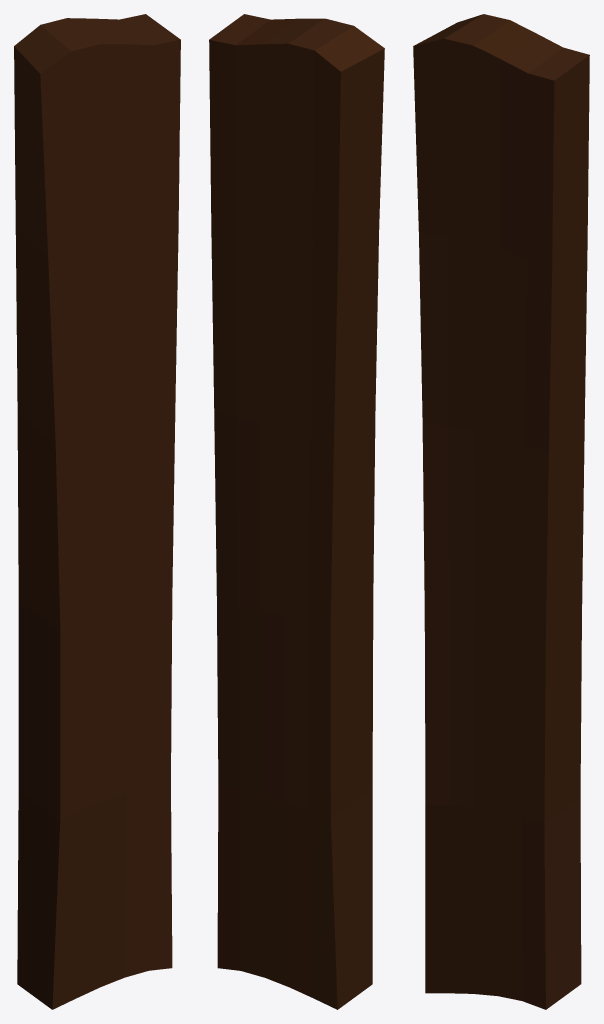
File: Plank3.fbx
3 renders of one model, left to right at view 1: azimuth 30°, elevation 25°; view 2: azimuth 150°, elevation 25°; view 3: azimuth 330°, elevation 25°, orthographic.
Parts seen in each view (by area): view 1: Box015; view 2: Box015; view 3: Box015.
Boxes of the visible parts, x1,y1,x2,y2 form: Box015: [14, 14, 180, 1009]; Box015: [209, 14, 384, 1009]; Box015: [413, 14, 589, 1009].
Bounding box in the file's own units: 4.59 × 2.39 × 29.77.
